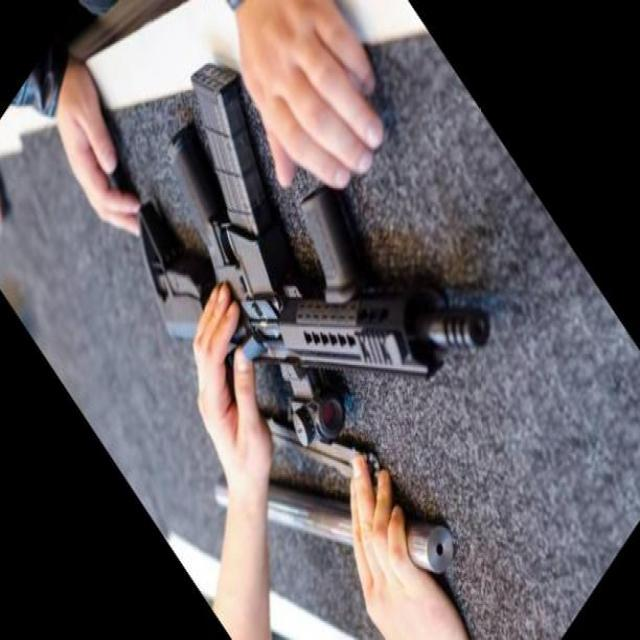weapon: (138, 62, 494, 449)
